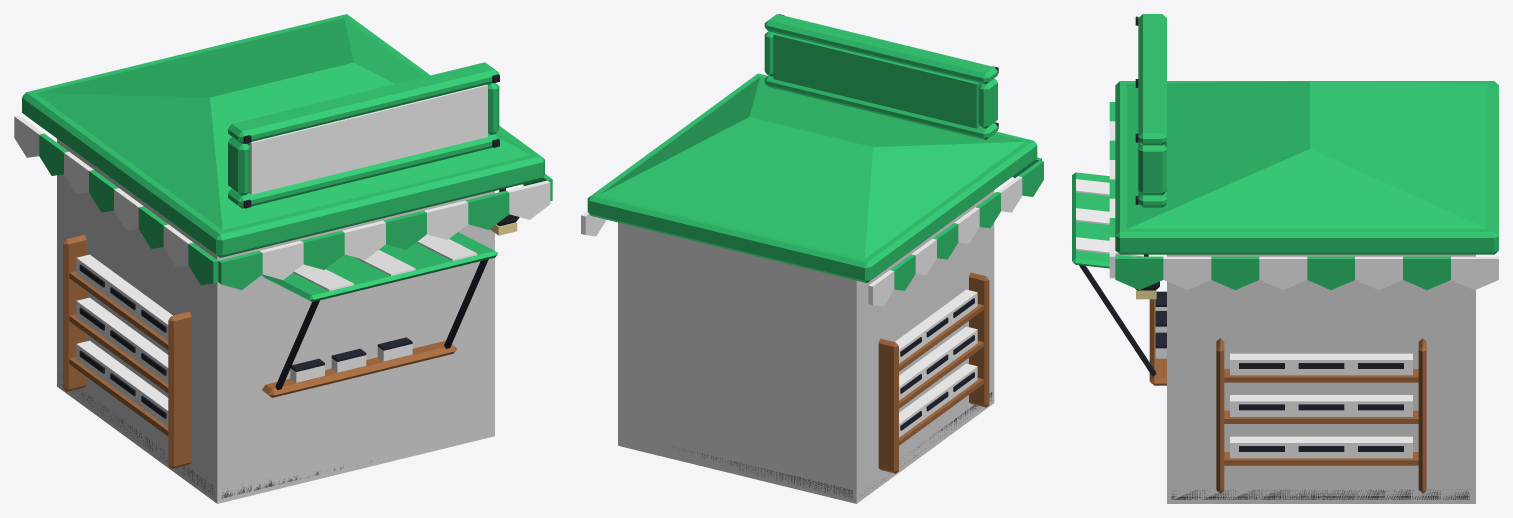
The model's file is kiosk.glb.
3 renders of one model, left to right at view 1: azimuth 30°, elevation 25°; view 2: azimuth 150°, elevation 25°; view 3: azimuth 270°, elevation 25°, orthographic. The views are drawn at different scales.
Parts seen in each view (by area): view 1: kiosk, COL_body, sign_board, sign_frame; view 2: kiosk, COL_body, sign_frame; view 3: kiosk, COL_body, sign_frame.
Part boxes in pixels (x1,y1,x2,y2): kiosk: (14,14,552,498); COL_body: (57,139,494,503); sign_board: (249,84,487,194); sign_frame: (228,62,499,208); kiosk: (581,73,1043,497); COL_body: (618,190,994,503); sign_frame: (764,14,998,139); kiosk: (1072,81,1498,499); COL_body: (1167,254,1475,503); sign_frame: (1135,14,1166,207).
Bounding box in the file's own units: 3.3 × 3.52 × 3.73.
